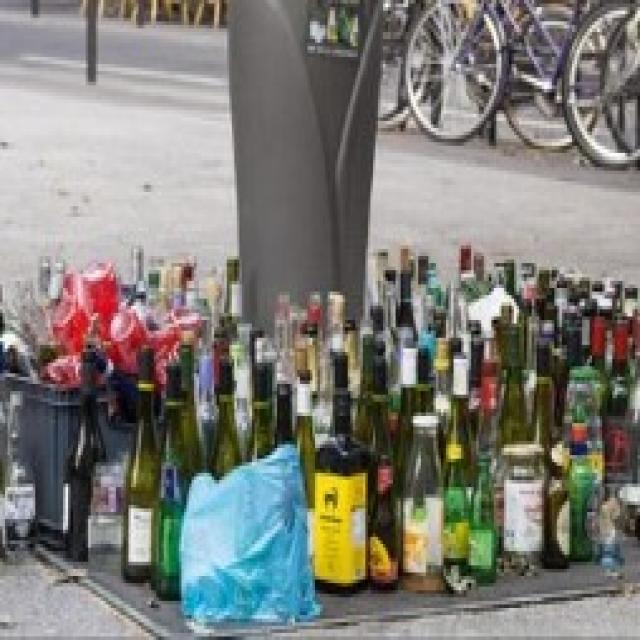electronic: (309, 354, 370, 599), (122, 340, 163, 584)
